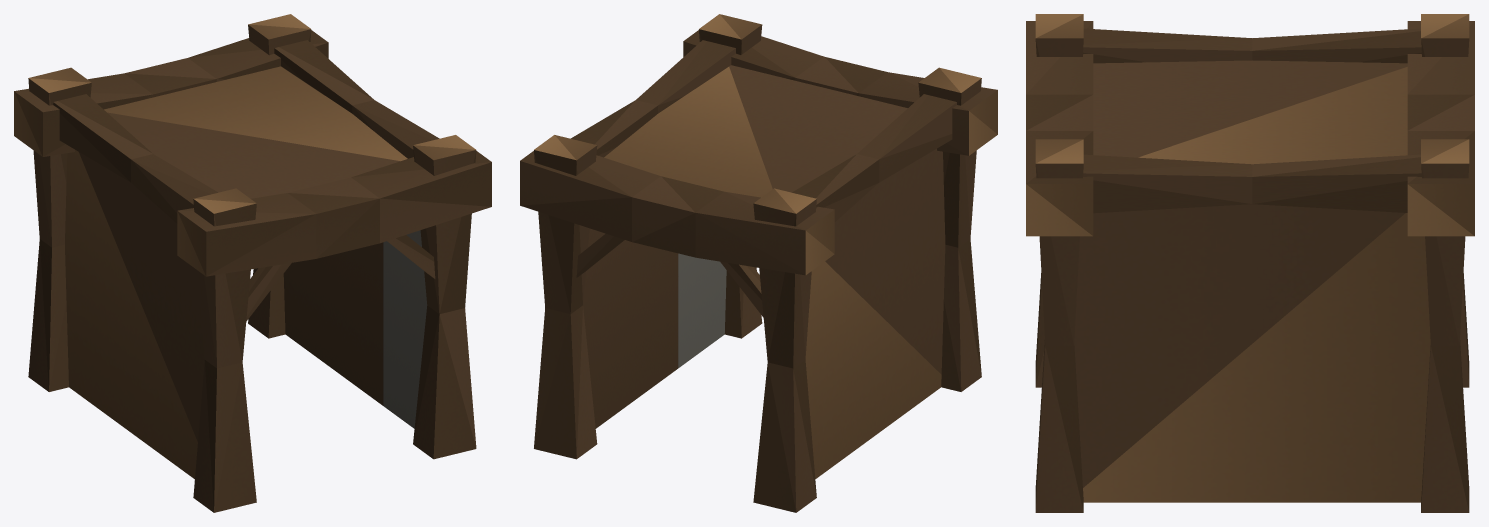
The model's file is Wagon_Gate_1A.fbx.
The picture shows the model from 3 angles, left to right: view 1: azimuth 30°, elevation 25°; view 2: azimuth 150°, elevation 25°; view 3: azimuth 270°, elevation 25°; orthographic projection. The views are drawn at different scales.
Visible parts, largest first — view 1: polySurface1079; view 2: polySurface1079; view 3: polySurface1079.
Part boxes in pixels (<box>): polySurface1079: <box>14,14,491,512</box>; polySurface1079: <box>520,14,997,512</box>; polySurface1079: <box>1026,14,1474,512</box>.
Bounding box in the file's own units: 400 × 400 × 466.
Materials: 1 (1 with a texture image).
